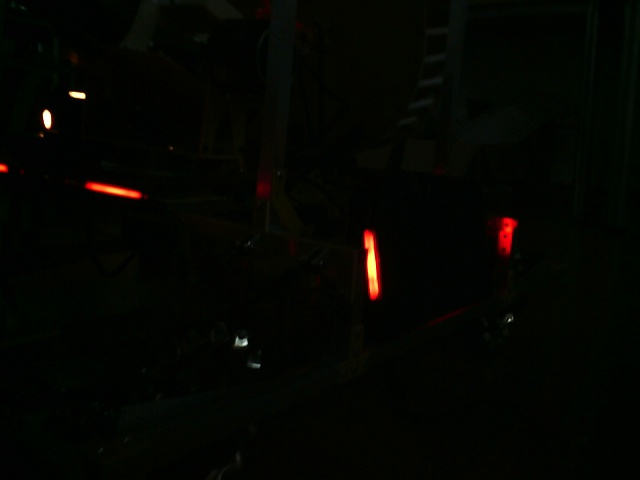lamp: (355, 223, 385, 302)
